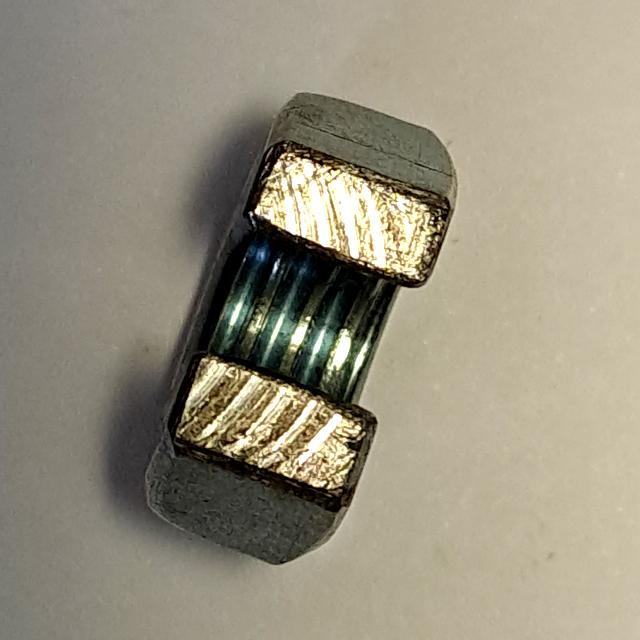Side-Fracture: (124, 79, 468, 584)
